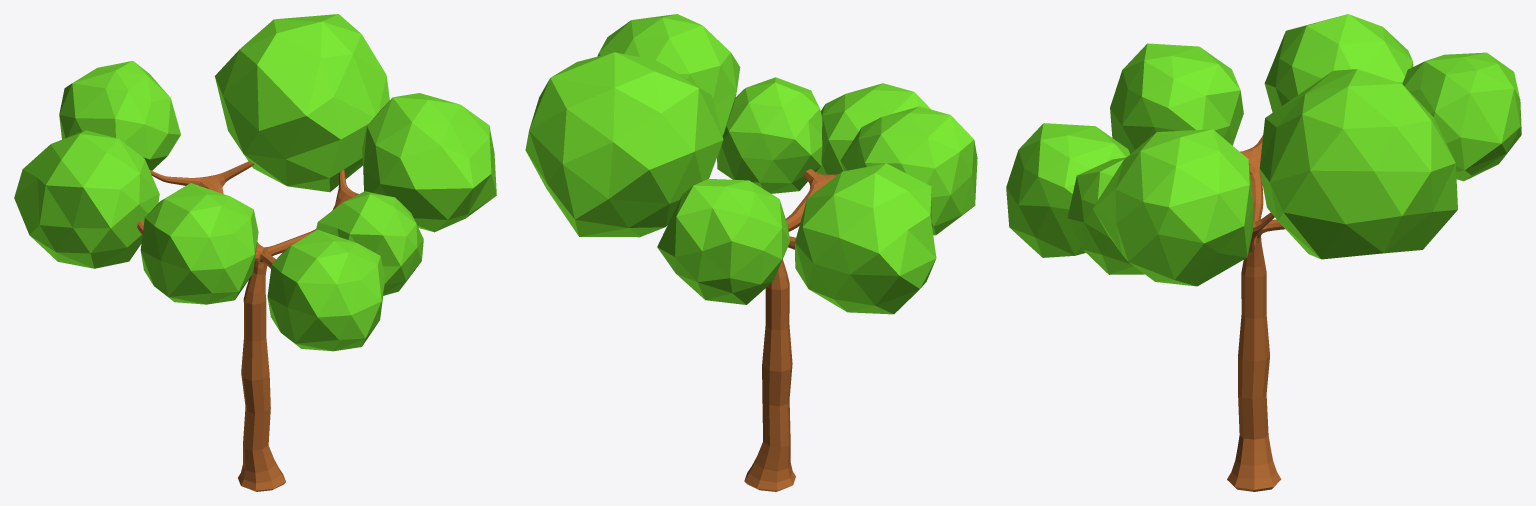
File: Puu.fbx
3 renders of one model, left to right at view 1: azimuth 30°, elevation 25°; view 2: azimuth 150°, elevation 25°; view 3: azimuth 270°, elevation 25°, orthographic. The views are drawn at different scales.
Visible parts, largest first — view 1: Icosphere.002, Plane; view 2: Icosphere.002, Plane; view 3: Icosphere.002, Plane.
Part boxes in pixels (x1=…): Icosphere.002: x1=14, y1=14, x2=496, y2=351; Plane: x1=137, y1=161, x2=358, y2=491; Icosphere.002: x1=525, y1=14, x2=977, y2=314; Plane: x1=744, y1=169, x2=838, y2=491; Icosphere.002: x1=1006, y1=14, x2=1521, y2=286; Plane: x1=1227, y1=135, x2=1285, y2=491.
Size of the model in its own units: 960 by 979 by 1009.
